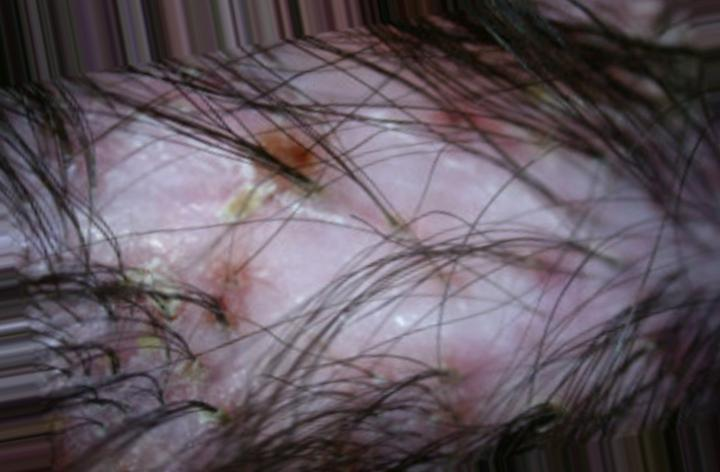Folliculitis: (110, 91, 572, 395)
